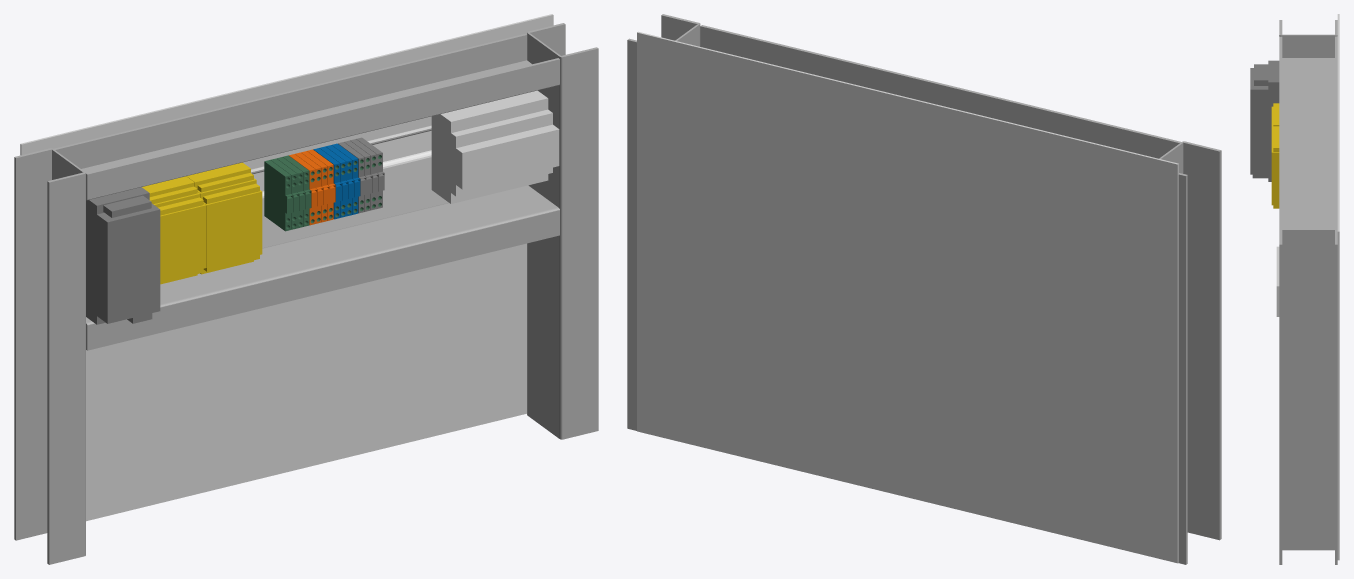
Rendered from Automated control system.fbx.
3 views of the same model, side by side, from view 1: azimuth 30°, elevation 25°; view 2: azimuth 150°, elevation 25°; view 3: azimuth 270°, elevation 25° (orthographic). The views are drawn at different scales.
Parts seen in each view (by area): view 1: Shelf, PB, Pilz, Festo, Clamps; view 2: Shelf; view 3: Shelf, Festo, Pilz, PB.
Part boxes in pixels (bbox=[...]): Shelf: bbox=[14, 14, 598, 564]; PB: bbox=[431, 90, 559, 203]; Pilz: bbox=[142, 162, 262, 284]; Festo: bbox=[86, 187, 160, 324]; Clamps: bbox=[264, 137, 384, 231]; Shelf: bbox=[627, 14, 1221, 564]; Shelf: bbox=[1279, 14, 1339, 564]; Festo: bbox=[1250, 60, 1279, 181]; Pilz: bbox=[1271, 103, 1279, 208]; PB: bbox=[1276, 246, 1279, 316].
Size of the model in its own units: 248 by 170 by 41.72.
